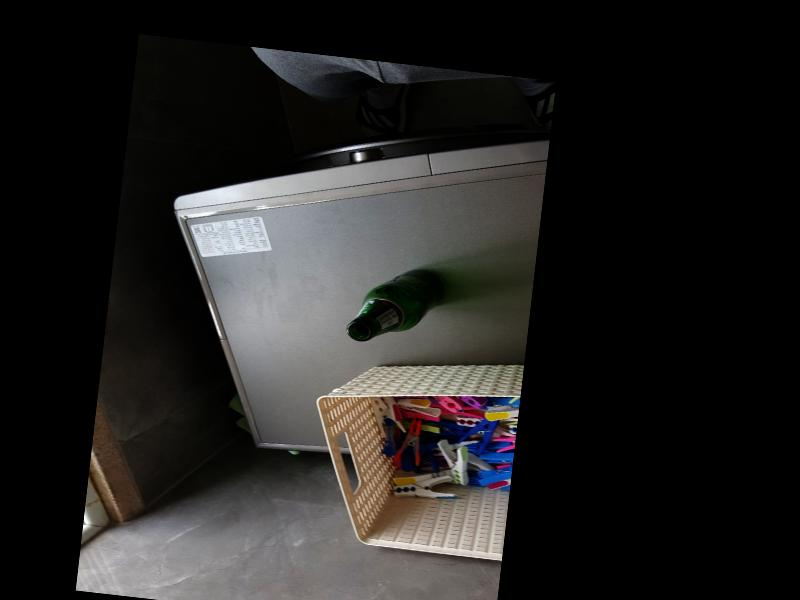Beer: (345, 261, 446, 348)
